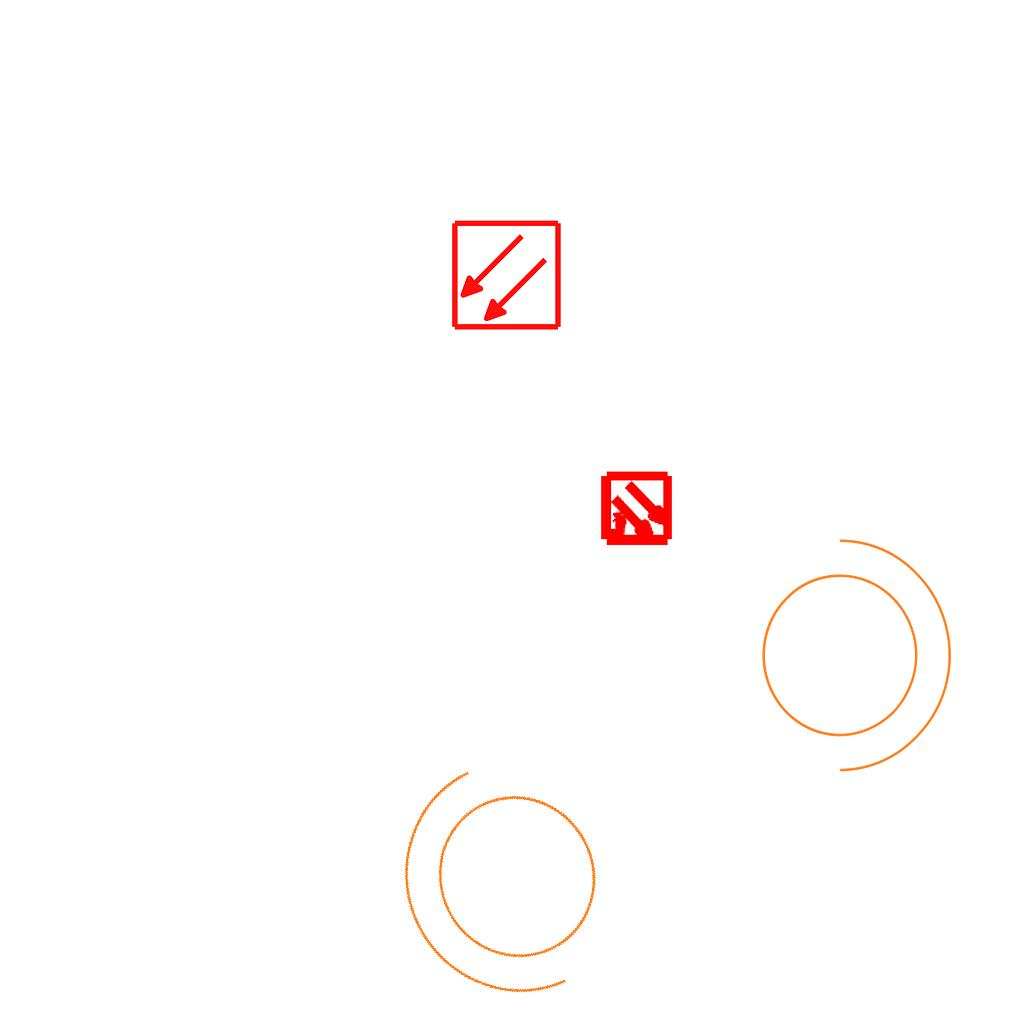OT_Multisensormelder_(Kombination_RMO_WMD): (580, 454, 693, 567)
RMO_Rauchmelder_optischer: (450, 219, 563, 332)
Scheinwerfer_fuer_Alarmbeleuchtung: (353, 719, 669, 1024), (737, 517, 962, 781)
